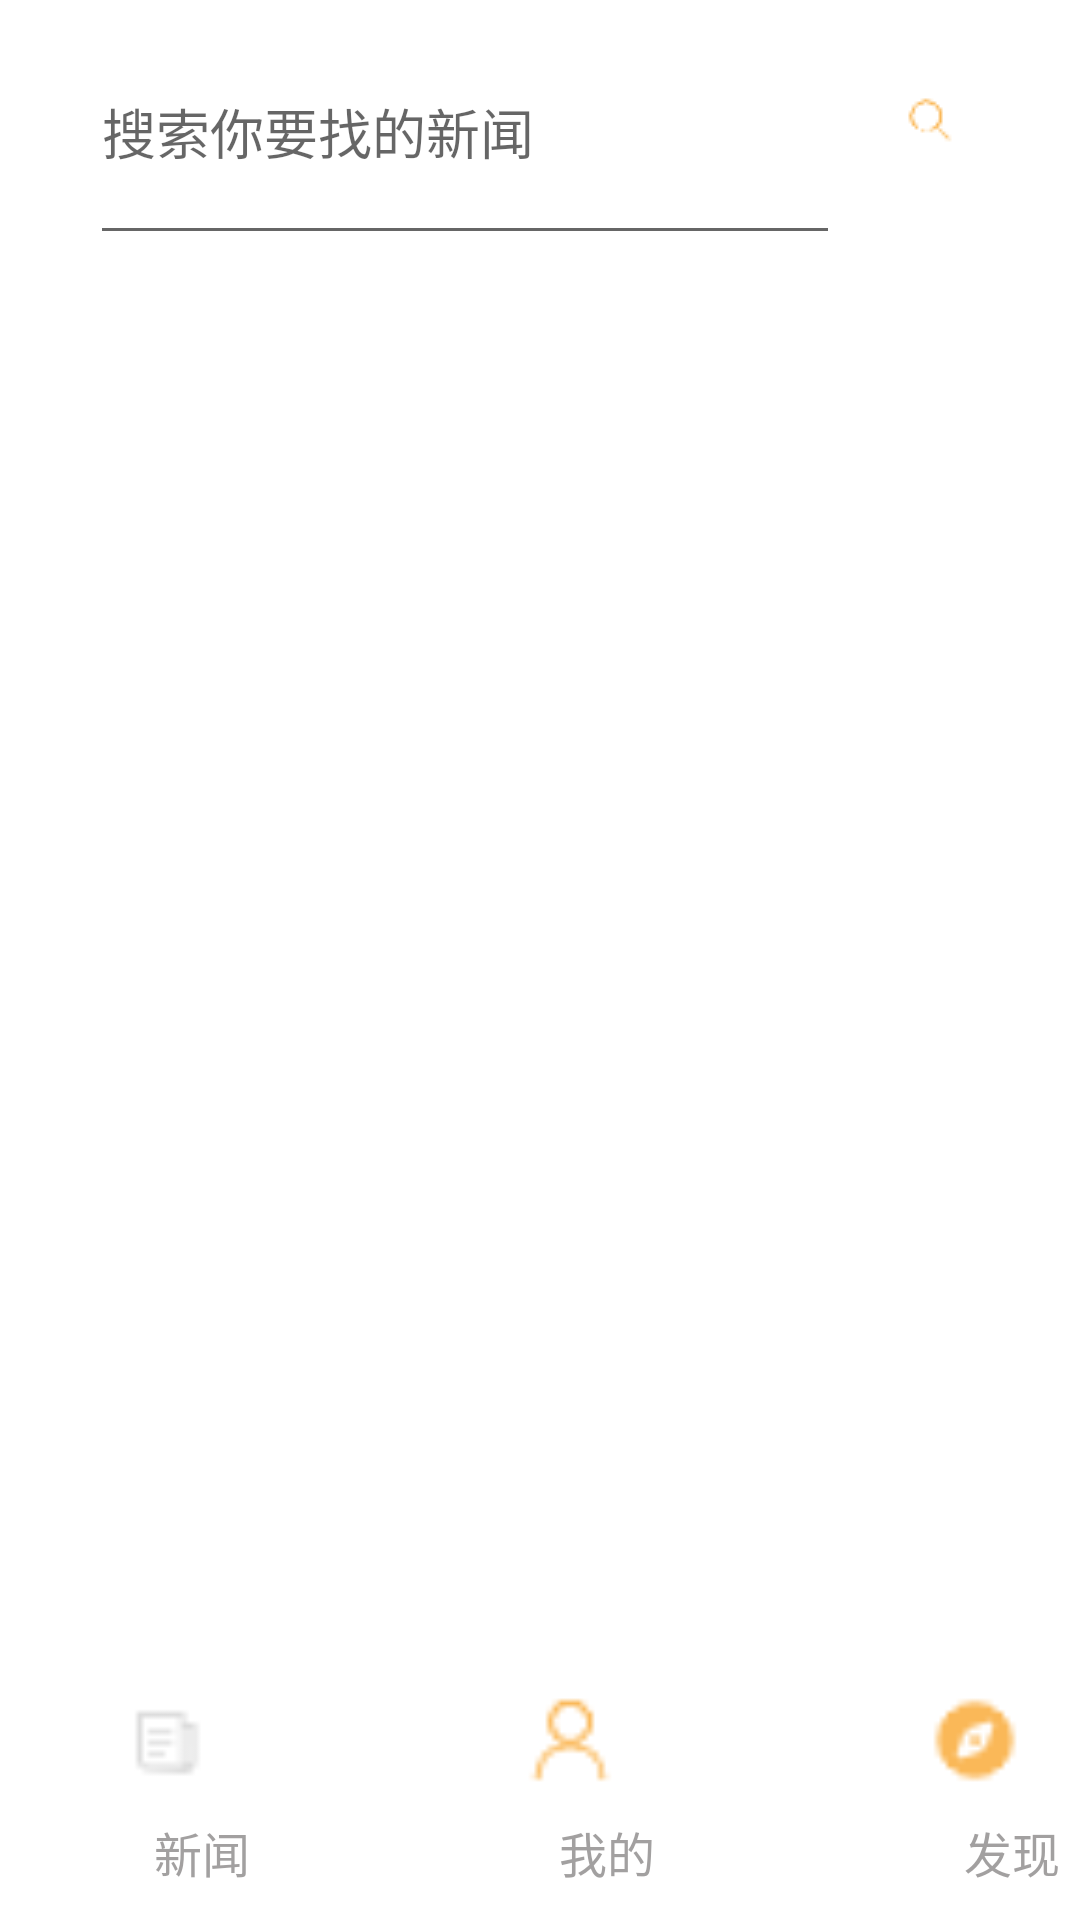

Where icons sit on this 1080 × 1920 app screen, as (x1, y1, x2, y2):
find: (934, 1699, 1016, 1781)
mine: (532, 1699, 608, 1781)
news: (138, 1713, 194, 1773)
search: (908, 98, 951, 141)
